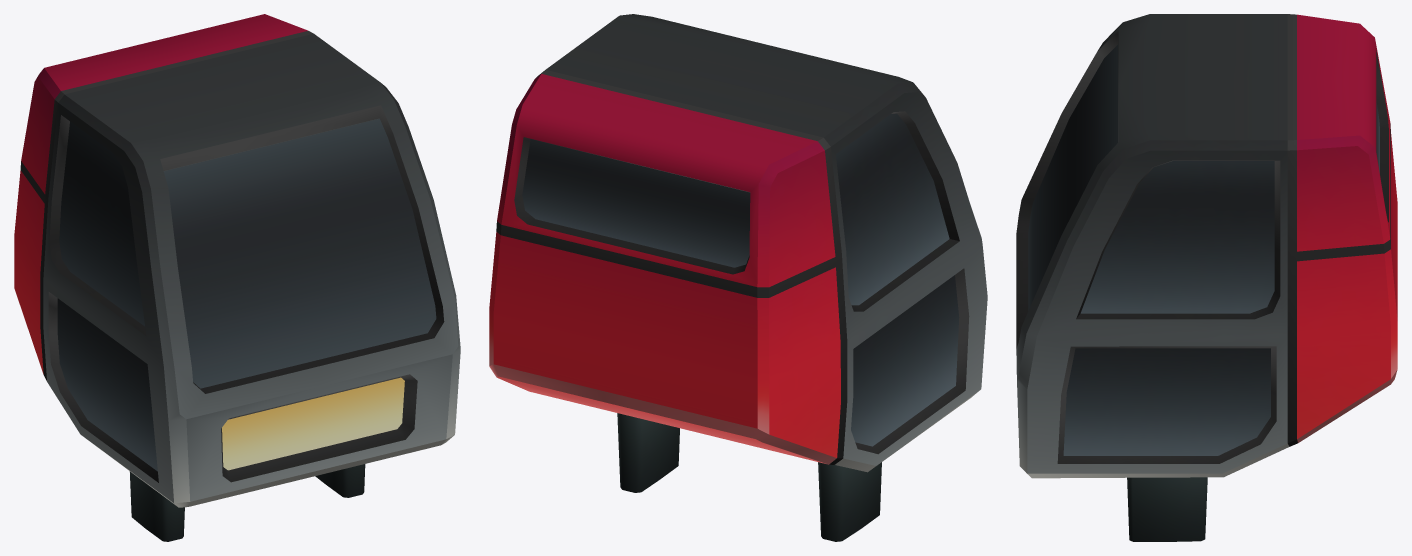
File: Cabin Scrap Treatment.fbx
3 views of the same model, side by side, from view 1: azimuth 30°, elevation 25°; view 2: azimuth 150°, elevation 25°; view 3: azimuth 270°, elevation 25° (orthographic). The views are drawn at different scales.
Visible parts, largest first — view 1: Crane_1B; view 2: Crane_1B; view 3: Crane_1B.
Part boxes in pixels (left/top/right/bottom): Crane_1B: left=14, top=14, right=460, bottom=541; Crane_1B: left=489, top=14, right=987, bottom=541; Crane_1B: left=1016, top=14, right=1397, bottom=541.
Bounding box in the file's own units: 226 × 294 × 245.
